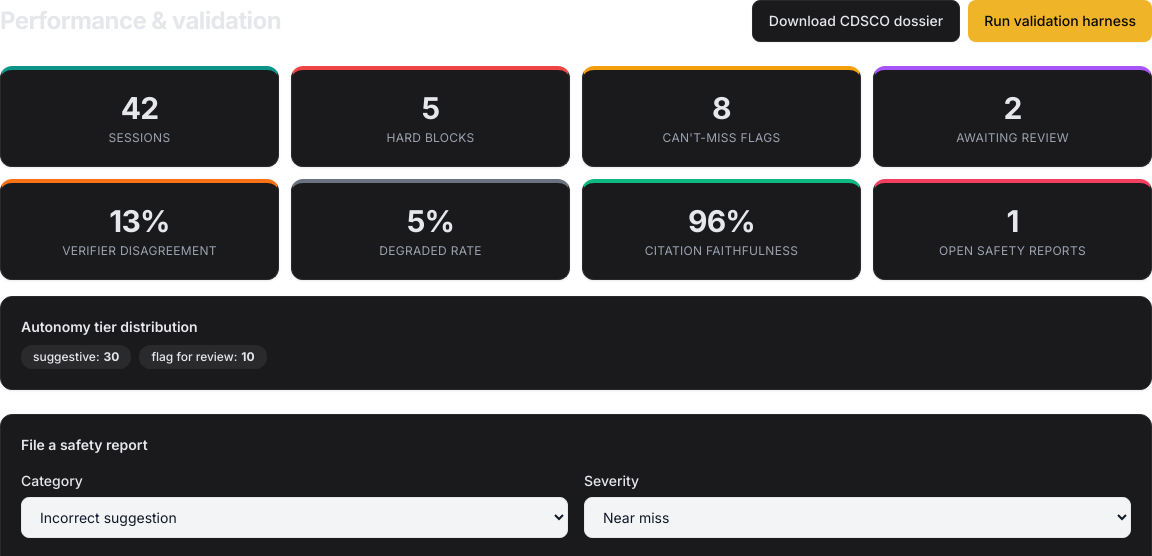
Test: MetricsPage error and badge fallbacks › shows a generic message when the validation harness fails outside the API contract
Expected: the text "42" is shown, x1=121 y1=90 x2=158 y2=126
Click the button "Run validation harness" at (1060, 21), box x1=968 y1=0 x2=1151 y2=42
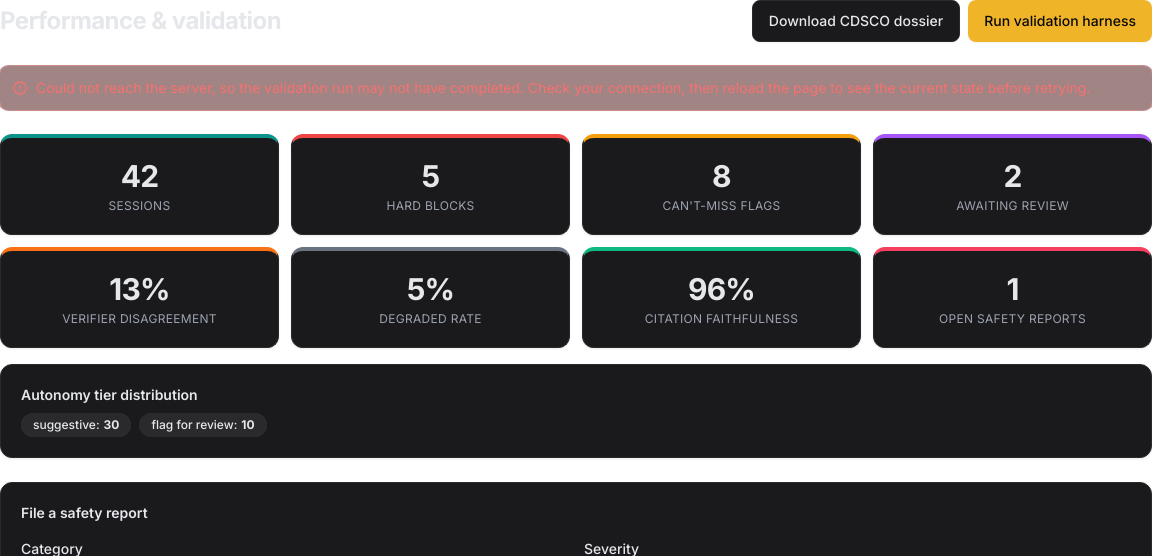
Expected: the text "Could not reach the server, so the validation run" is shown, x1=36 y1=79 x2=1090 y2=96
